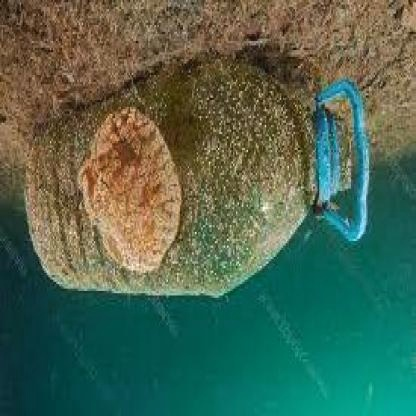pbottle: (20, 59, 372, 302)
